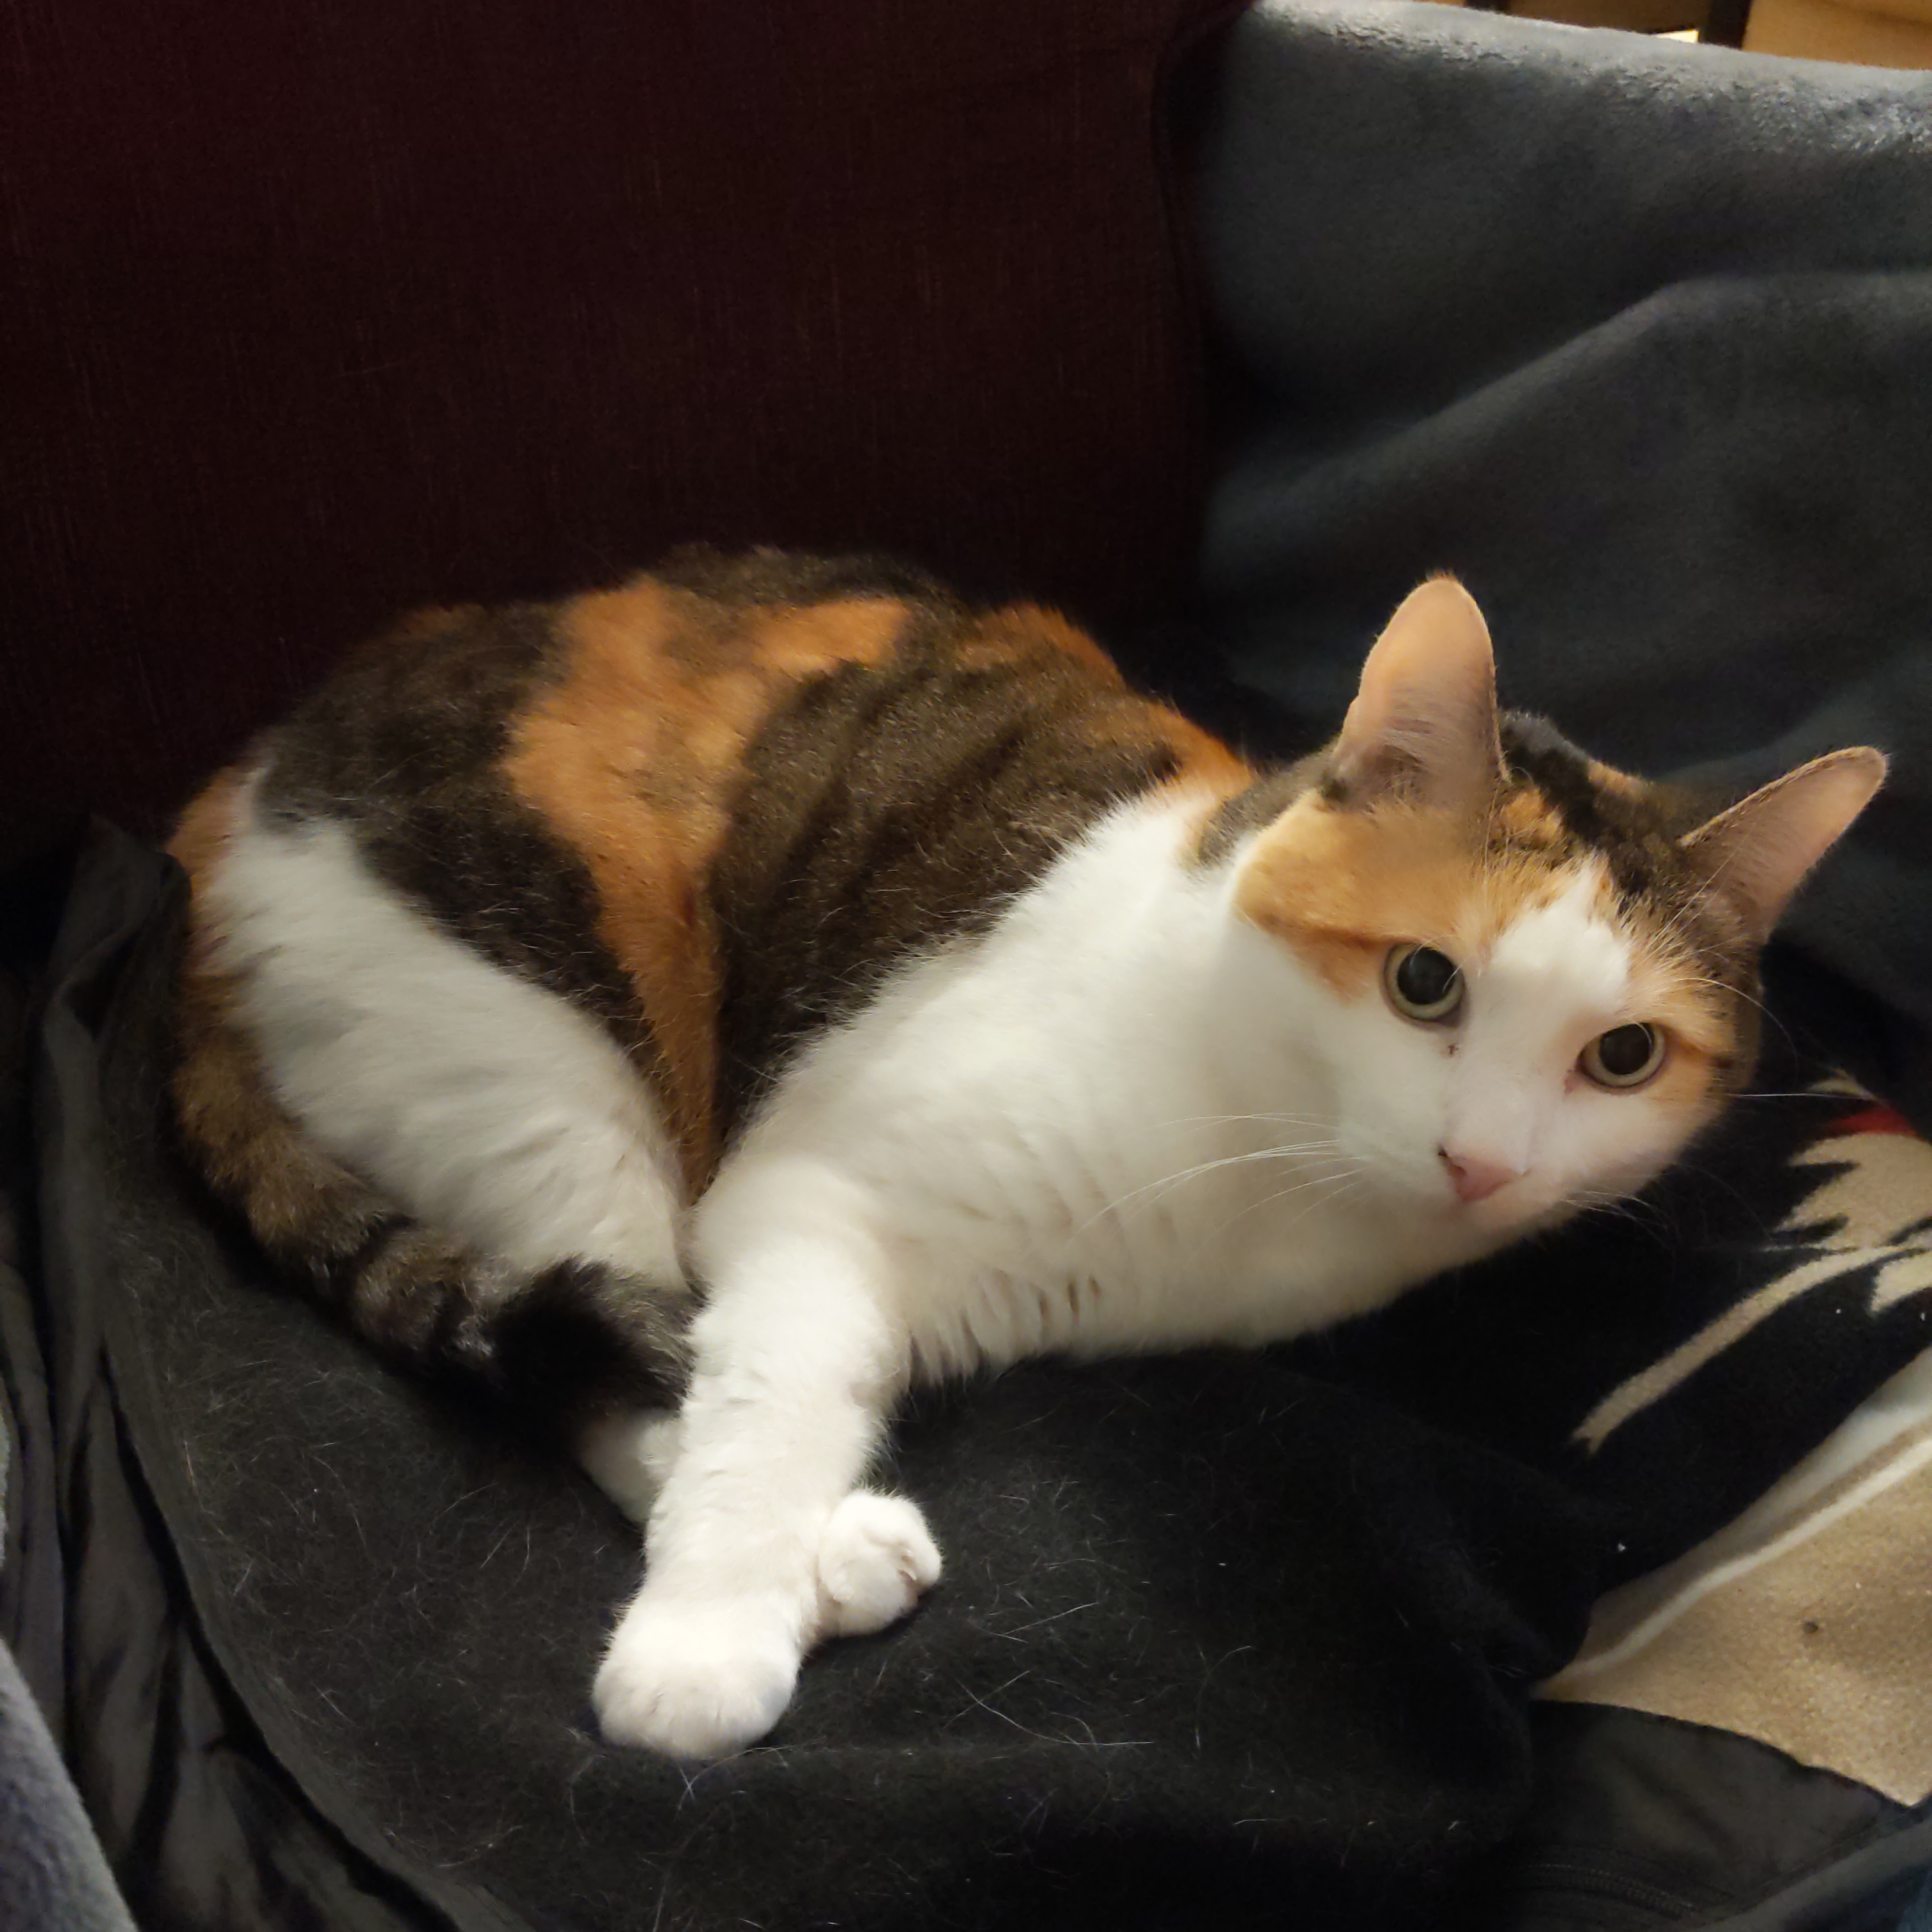Calico: (154, 543, 1891, 1760)
